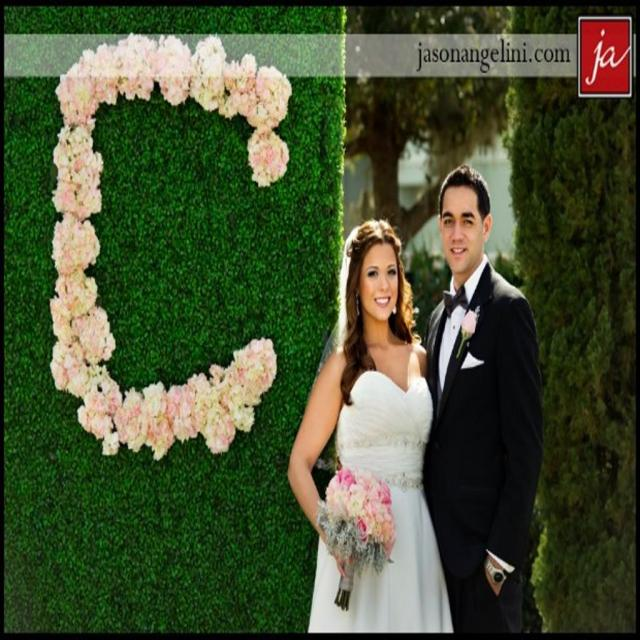Face: (350, 234, 409, 332), (441, 175, 488, 278)
